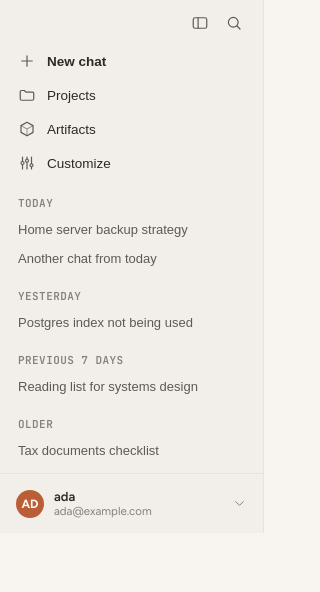
Sidebar › shows 'no chats match' fallback when search matches nothing
Click the button titled "Search" at point(234, 23), box [219,8,249,38]
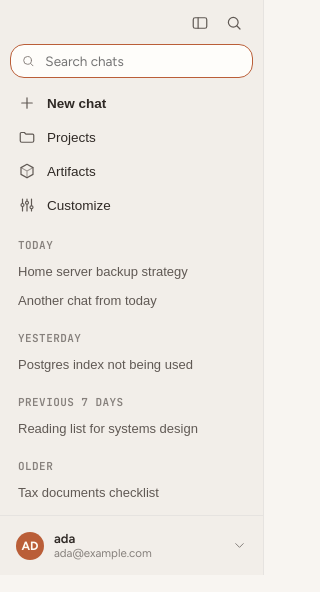
Type "zzzz-no-such-thing" into the field with placeholder "Search chats" at point(143, 61), box [43,52,242,70]
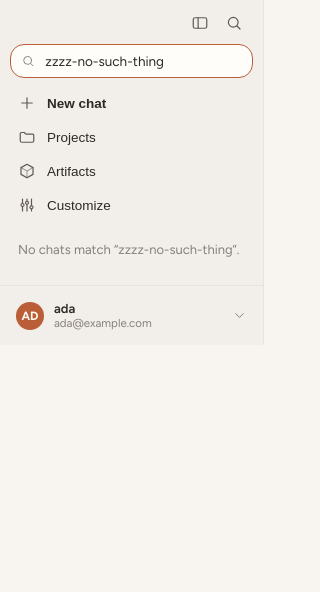
Check: the text "No chats match “zzzz-no-such-thing”." is shown, box [18,242,240,257]
